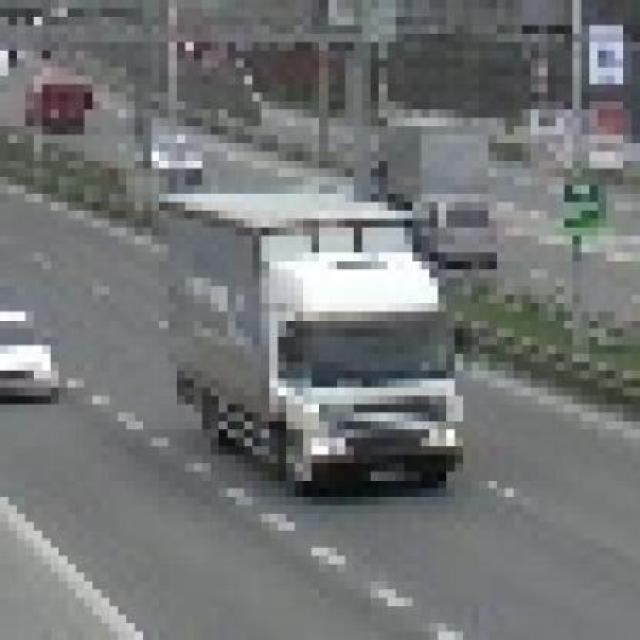truck: (169, 177, 481, 473)
